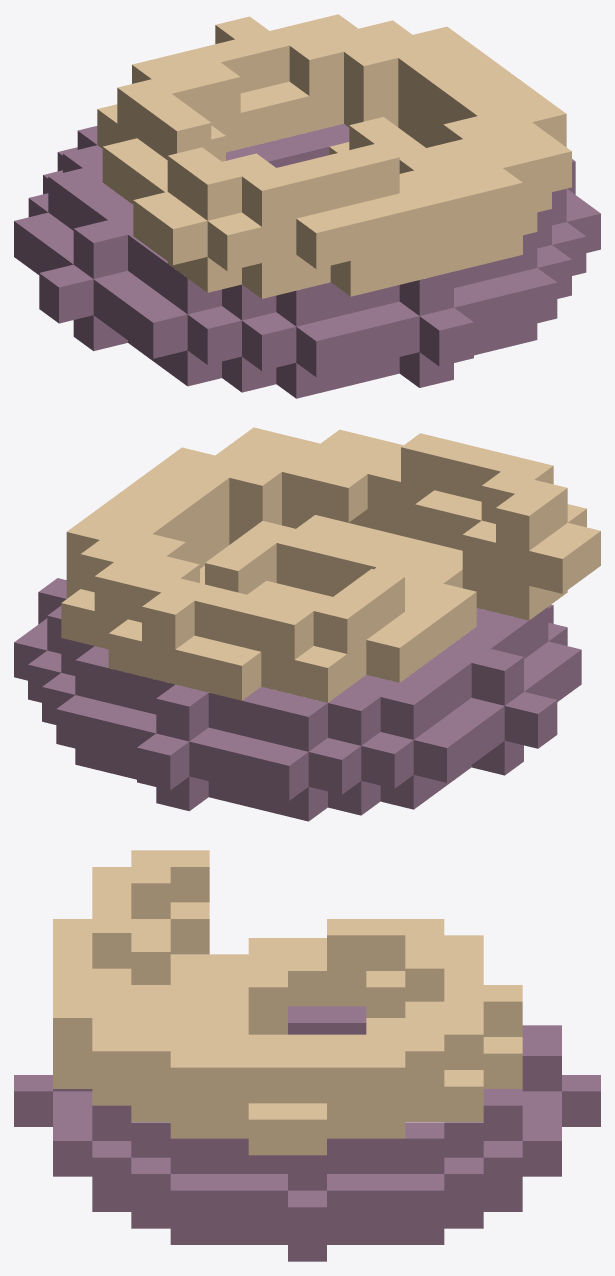
The model's file is alien-biosphere-spiral-burrow-90024053__22784.glb.
3 views of the same model, one above another, from view 1: azimuth 30°, elevation 25°; view 2: azimuth 150°, elevation 25°; view 3: azimuth 270°, elevation 25° (orthographic). The views are drawn at different scales.
Parts seen in each view (by area): view 1: spiral-burrow; view 2: spiral-burrow; view 3: spiral-burrow.
Boxes of the visible parts, left/top/right/bottom form: spiral-burrow: left=14, top=14, right=600, bottom=398; spiral-burrow: left=14, top=427, right=600, bottom=821; spiral-burrow: left=14, top=850, right=600, bottom=1261.
Bounding box in the file's own units: 2.7 × 1.08 × 2.7.
